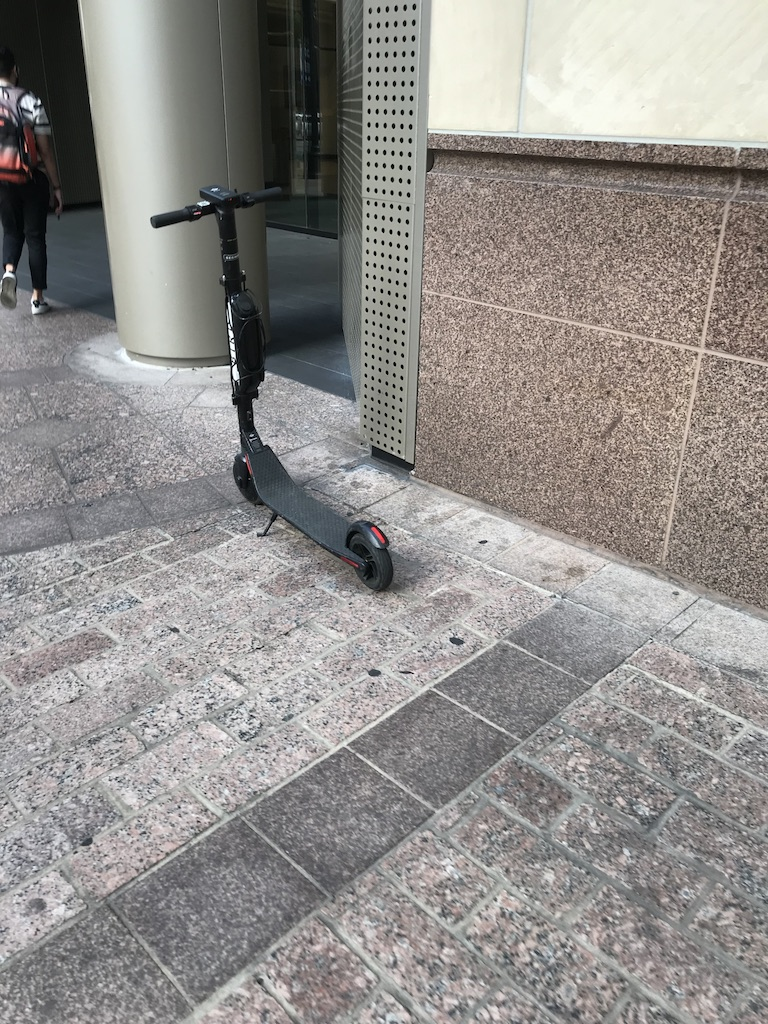scooter: (151, 184, 397, 595)
